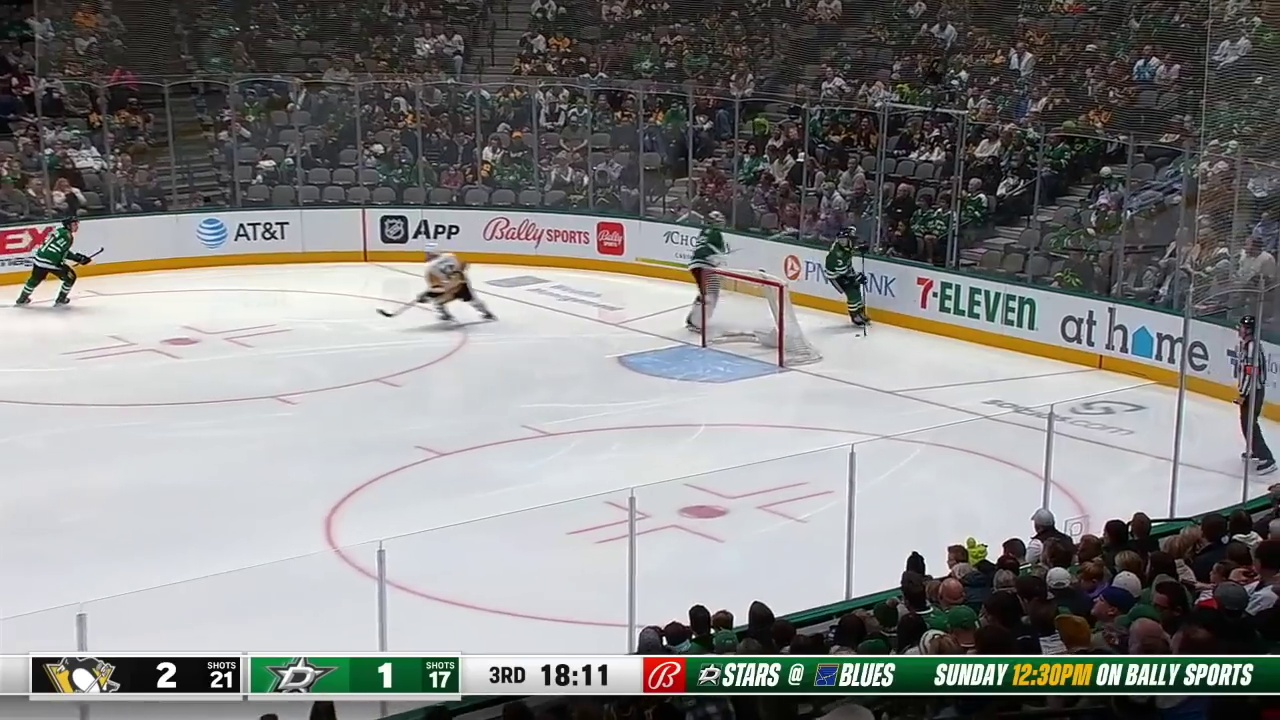goalie: (685, 210, 727, 333)
hockeyplayer: (16, 216, 92, 307), (416, 242, 496, 323), (825, 229, 871, 329)
referee: (1233, 316, 1278, 476)
